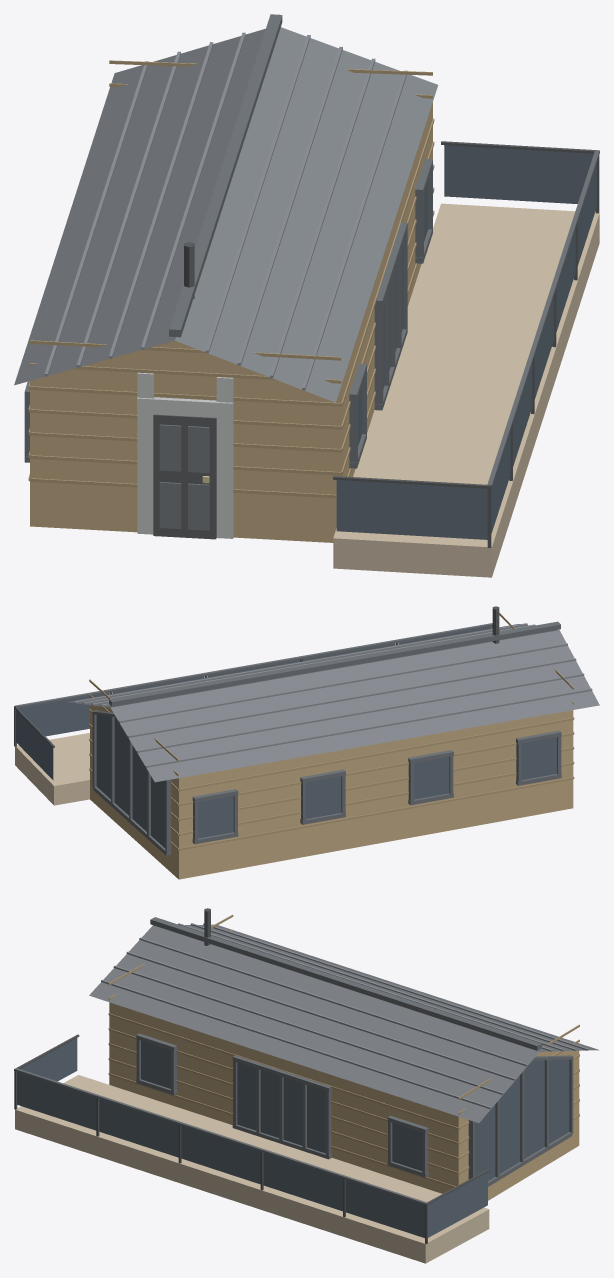
3 renders of one model, top to bottom at view 1: azimuth 30°, elevation 25°; view 2: azimuth 150°, elevation 25°; view 3: azimuth 270°, elevation 25°, orthographic. The views are drawn at different scales.
Parts seen in each view (by area): view 1: slate, larch, door_wood, slate_dk, slate_lt, door_wood_p, window_glass_006, window_glass_007, stone_band, door_dark_p, door_dark, pipe (+5 smaller); view 2: slate, door_wood, slate_dk, slate_lt, door_wood_p, window_glass_014, larch, window_glass_005, window_glass_017, window_glass_016, window_glass_015, window_glass_018 (+2 smaller); view 3: slate, door_wood, larch, slate_dk, slate_lt, window_glass_014, door_wood_p, window_glass_002, window_glass_003, window_glass_004, window_glass_001, window_glass_005 (+9 smaller).
Part boxes in pixels (<box>): slate: <box>14,27,438,402</box>; larch: <box>333,203,599,577</box>; door_wood: <box>30,102,432,542</box>; slate_dk: <box>24,14,599,486</box>; slate_lt: <box>44,32,407,390</box>; door_wood_p: <box>28,60,434,498</box>; window_glass_006: <box>336,480,487,539</box>; window_glass_007: <box>444,145,593,203</box>; stone_band: <box>137,372,233,538</box>; door_dark_p: <box>159,424,209,530</box>; door_dark: <box>153,414,216,539</box>; pipe: <box>184,141,599,547</box>; slate: <box>66,624,599,782</box>; door_wood: <box>90,705,573,879</box>; slate_dk: <box>15,621,561,855</box>; slate_lt: <box>74,623,592,767</box>; door_wood_p: <box>89,612,574,850</box>; window_glass_014: <box>96,715,165,847</box>; larch: <box>15,733,89,805</box>; window_glass_005: <box>19,692,109,736</box>; window_glass_017: <box>414,756,449,799</box>; window_glass_016: <box>306,776,341,818</box>; window_glass_015: <box>198,795,233,838</box>; window_glass_018: <box>521,737,556,779</box>; slate: <box>89,924,598,1122</box>; door_wood: <box>109,1002,579,1200</box>; larch: <box>15,1075,489,1263</box>; slate_dk: <box>15,917,573,1205</box>; slate_lt: <box>101,923,588,1109</box>; window_glass_014: <box>475,1059,569,1180</box>; door_wood_p: <box>108,914,579,1187</box>; window_glass_002: <box>99,1099,178,1157</box>; window_glass_003: <box>181,1125,260,1184</box>; window_glass_004: <box>263,1152,342,1211</box>; window_glass_001: <box>17,1072,96,1130</box>; window_glass_005: <box>345,1179,424,1237</box>.
Size of the model in its own units: 12.93 by 4.33 by 13.51.
